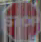Stop: (2, 1, 38, 41)
